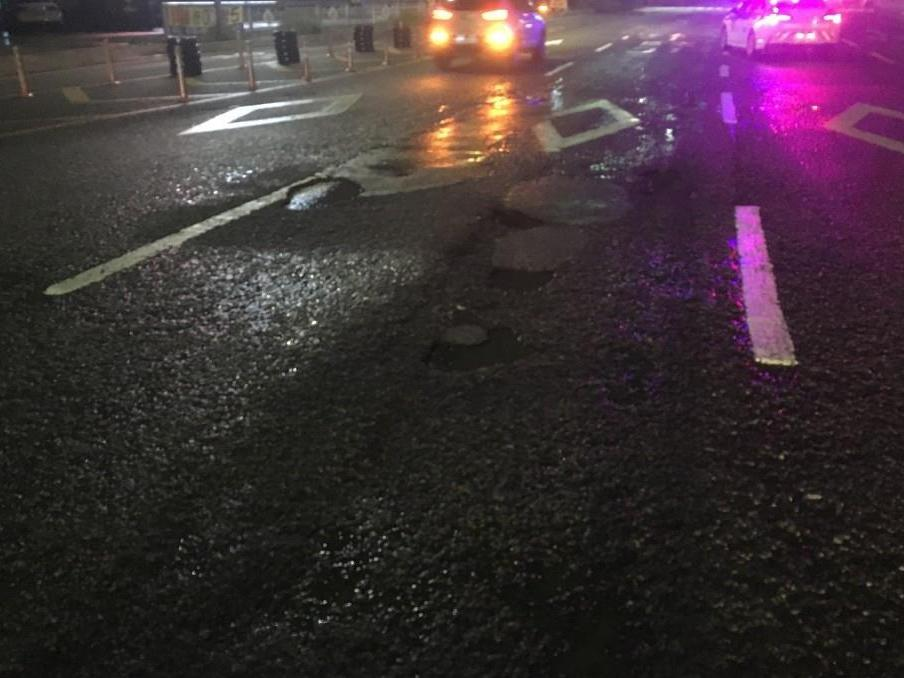pothole: (490, 214, 600, 283)
